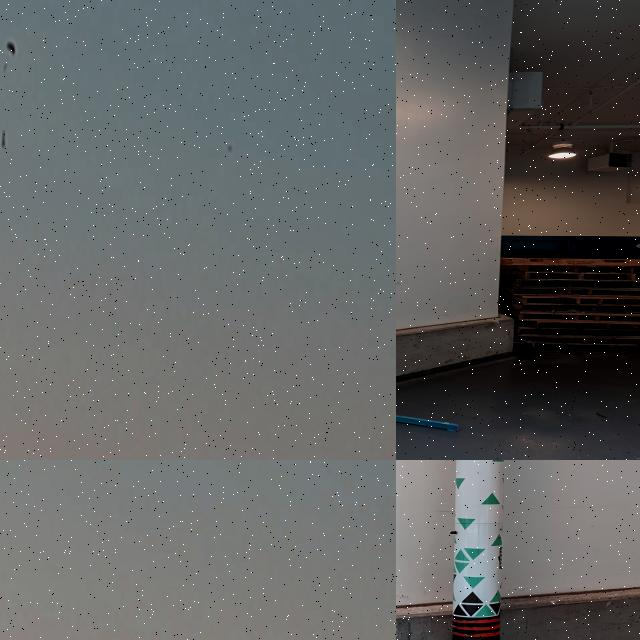Rocket: (449, 460, 504, 640), (1, 129, 6, 149)
